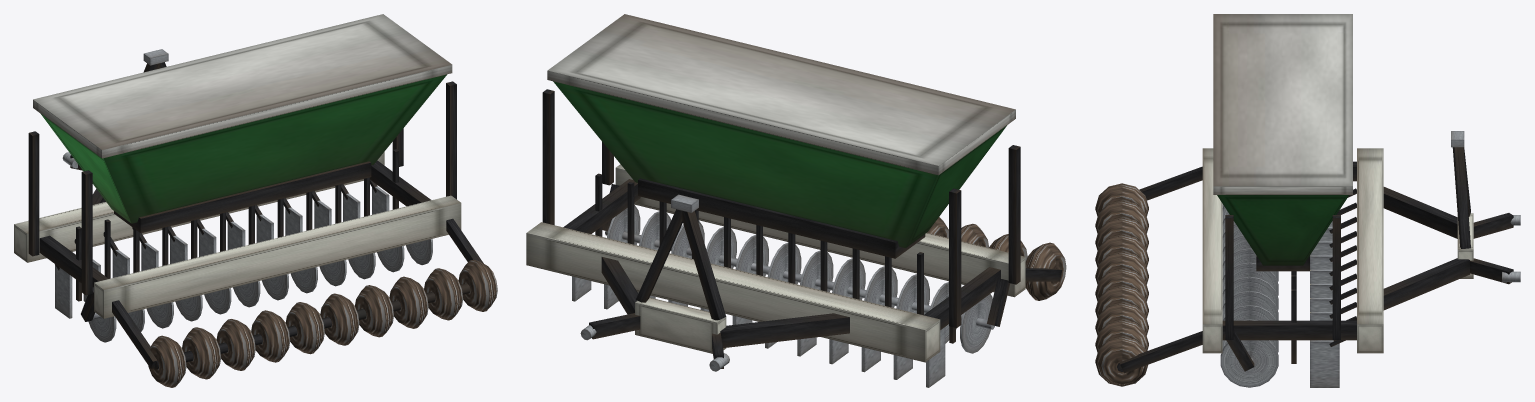
The model's file is Seeder.glb.
3 views of the same model, side by side, from view 1: azimuth 30°, elevation 25°; view 2: azimuth 150°, elevation 25°; view 3: azimuth 270°, elevation 25° (orthographic). The views are drawn at different scales.
Parts seen in each view (by area): view 1: Hopper, Frame, PackerWheels, SeedDiscs, Coulters; view 2: Hopper, Frame, SeedDiscs, Coulters, PackerWheels; view 3: Hopper, Frame, PackerWheels, SeedDiscs, Coulters.
Part boxes in pixels (left/top/right/bottom): Hopper: left=33, top=14, right=452, bottom=301; Frame: left=14, top=49, right=483, bottom=368; PackerWheels: left=148, top=259, right=497, bottom=387; SeedDiscs: left=85, top=239, right=432, bottom=342; Coulters: left=55, top=180, right=389, bottom=318; Hopper: left=547, top=14, right=1015, bottom=343; Frame: left=526, top=89, right=1062, bottom=371; SeedDiscs: left=605, top=205, right=994, bottom=353; Coulters: left=572, top=276, right=945, bottom=387; PackerWheels: left=927, top=217, right=1066, bottom=300; Hopper: left=1213, top=14, right=1352, bottom=363; Frame: left=1120, top=131, right=1520, bottom=373; PackerWheels: left=1095, top=183, right=1148, bottom=386; SeedDiscs: left=1220, top=204, right=1278, bottom=387; Coulters: left=1310, top=188, right=1356, bottom=387.
Size of the model in its own units: 3.22 by 1.72 by 3.17.
1 material, 1 textured.
